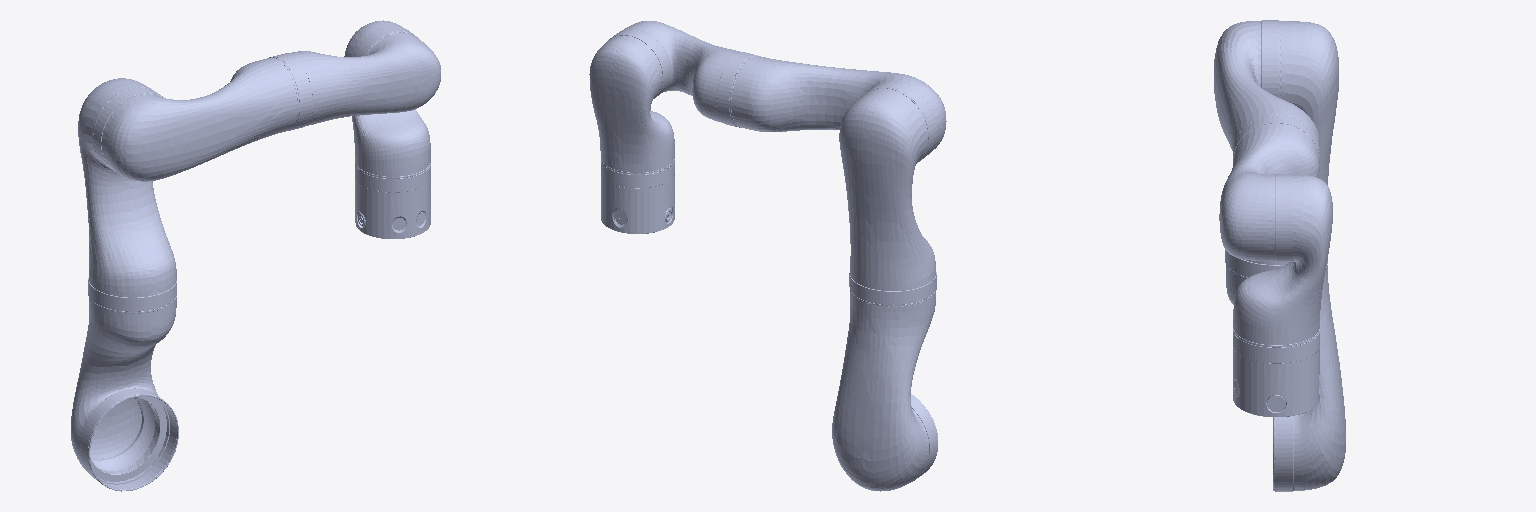
robot.urdf — tcb610:
<?xml version="1.0" encoding="utf-8"?>
<!-- This URDF was automatically created by SolidWorks to URDF Exporter! Originally created by Stephen Brawner (brawner@gmail.com) 
     Commit Version: 1.6.0-4-g7f85cfe  Build Version: 1.6.7995.38578
     For more information, please see http://wiki.ros.org/sw_urdf_exporter -->
<robot
  name="tcb610">
  <mujoco>
    <compiler
      meshdir="../meshes/"
      discardvisual="false"
    />
  </mujoco>
  <link
    name="link0">
    <inertial>
      <origin
        xyz="-0.0020391678669849 0.000208461233542917 0.0437970464318419"
        rpy="0 0 0" />
      <mass
        value="0.230943297728628" />
      <inertia
        ixx="0.000578857931988572"
        ixy="2.49644295158403E-06"
        ixz="-3.62761994221813E-06"
        iyy="0.000597326060992728"
        iyz="8.87603974516211E-07"
        izz="0.000630268815467392" />
    </inertial>
    <visual>
      <origin
        xyz="0 0 0"
        rpy="0 0 0" />
      <geometry>
        <mesh
          filename="package://tl_description/meshes/tcb610/link0.STL" />
      </geometry>
      <material
        name="">
        <color
          rgba="0.792156862745098 0.819607843137255 0.933333333333333 1" />
      </material>
    </visual>
    <collision>
      <origin
        xyz="0 0 0"
        rpy="0 0 0" />
      <geometry>
        <mesh
          filename="package://tl_description/meshes/tcb610/link0.STL" />
      </geometry>
    </collision>
  </link>
  <link
    name="link1">
    <inertial>
      <origin
        xyz="-2.82592835967698E-06 -0.0149440554612562 0.0760738628611229"
        rpy="0 0 0" />
      <mass
        value="0.188795049535535" />
      <inertia
        ixx="0.000644330974536614"
        ixy="5.5580416846704E-08"
        ixz="-5.40921744937685E-08"
        iyy="0.000669839544820847"
        iyz="0.000101917330586459"
        izz="0.000292784373513458" />
    </inertial>
    <visual>
      <origin
        xyz="0 0 0"
        rpy="0 0 0" />
      <geometry>
        <mesh
          filename="package://tl_description/meshes/tcb610/link1.STL" />
      </geometry>
      <material
        name="">
        <color
          rgba="0.792156862745098 0.819607843137255 0.933333333333333 1" />
      </material>
    </visual>
    <collision>
      <origin
        xyz="0 0 0"
        rpy="0 0 0" />
      <geometry>
        <mesh
          filename="package://tl_description/meshes/tcb610/link1.STL" />
      </geometry>
    </collision>
  </link>
  <joint
    name="joint1"
    type="revolute">
    <origin
      xyz="0 0 0.12215"
      rpy="0 0 0" />
    <parent
      link="link0" />
    <child
      link="link1" />
    <axis
      xyz="0 0 1" />
    <limit
      lower="-3.1226"
      upper="3.1226"
      effort="0"
      velocity="0" />
  </joint>
  <link
    name="link2">
    <inertial>
      <origin
        xyz="-3.41499887095105E-06 0.154403018882071 -0.0117350233716899"
        rpy="0 0 0" />
      <mass
        value="0.336430028750154" />
      <inertia
        ixx="0.00409550955481811"
        ixy="-2.27323080313501E-07"
        ixz="4.07590009581096E-08"
        iyy="0.000379304145451206"
        iyz="-6.46124398304674E-05"
        izz="0.00414165278260098" />
    </inertial>
    <visual>
      <origin
        xyz="0 0 0"
        rpy="0 0 0" />
      <geometry>
        <mesh
          filename="package://tl_description/meshes/tcb610/link2.STL" />
      </geometry>
      <material
        name="">
        <color
          rgba="0.792156862745098 0.819607843137255 0.933333333333333 1" />
      </material>
    </visual>
    <collision>
      <origin
        xyz="0 0 0"
        rpy="0 0 0" />
      <geometry>
        <mesh
          filename="package://tl_description/meshes/tcb610/link2.STL" />
      </geometry>
    </collision>
  </link>
  <joint
    name="joint2"
    type="revolute">
    <origin
      xyz="0 0.00665 0.14085"
      rpy="1.5708 0 0" />
    <parent
      link="link1" />
    <child
      link="link2" />
    <axis
      xyz="0 0 1" />
    <limit
      lower="-2.3562"
      upper="2.3562"
      effort="0"
      velocity="0" />
  </joint>
  <link
    name="link3">
    <inertial>
      <origin
        xyz="-2.75097287749659E-06 -0.0654996449646542 0.0144299061513071"
        rpy="0 0 0" />
      <mass
        value="0.145368275010407" />
      <inertia
        ixx="0.000526467492614225"
        ixy="2.65630070533986E-08"
        ixz="-8.83393851017443E-09"
        iyy="0.000131598103743421"
        iyz="-7.17193011658269E-05"
        izz="0.000544513509321361" />
    </inertial>
    <visual>
      <origin
        xyz="0 0 0"
        rpy="0 0 0" />
      <geometry>
        <mesh
          filename="package://tl_description/meshes/tcb610/link3.STL" />
      </geometry>
      <material
        name="">
        <color
          rgba="0.792156862745098 0.819607843137255 0.933333333333333 1" />
      </material>
    </visual>
    <collision>
      <origin
        xyz="0 0 0"
        rpy="0 0 0" />
      <geometry>
        <mesh
          filename="package://tl_description/meshes/tcb610/link3.STL" />
      </geometry>
    </collision>
  </link>
  <joint
    name="joint3"
    type="revolute">
    <origin
      xyz="0 0.3205 0.0118"
      rpy="0 0 1.5708" />
    <parent
      link="link2" />
    <child
      link="link3" />
    <axis
      xyz="0 0 1" />
    <limit
      lower="-0.9948"
      upper="4.1364"
      effort="0"
      velocity="0" />
  </joint>
  <link
    name="link4">
    <inertial>
      <origin
        xyz="-5.11720254758874E-06 0.0131445629598491 0.0626746095636407"
        rpy="0 0 0" />
      <mass
        value="0.0899818114825246" />
      <inertia
        ixx="0.000204808501954044"
        ixy="1.16327137559445E-08"
        ixz="4.07773249225712E-08"
        iyy="0.000207969757871977"
        iyz="-3.60478177498198E-05"
        izz="7.7518994163839E-05" />
    </inertial>
    <visual>
      <origin
        xyz="0 0 0"
        rpy="0 0 0" />
      <geometry>
        <mesh
          filename="package://tl_description/meshes/tcb610/link4.STL" />
      </geometry>
      <material
        name="">
        <color
          rgba="0.792156862745098 0.819607843137255 0.933333333333333 1" />
      </material>
    </visual>
    <collision>
      <origin
        xyz="0 0 0"
        rpy="0 0 0" />
      <geometry>
        <mesh
          filename="package://tl_description/meshes/tcb610/link4.STL" />
      </geometry>
    </collision>
  </link>
  <joint
    name="joint4"
    type="revolute">
    <origin
      xyz="0 -0.16615 -0.00515"
      rpy="1.5708 0 0" />
    <parent
      link="link3" />
    <child
      link="link4" />
    <axis
      xyz="0 0 1" />
    <limit
      lower="-3.1226"
      upper="3.1226"
      effort="0"
      velocity="0" />
  </joint>
  <link
    name="link5">
    <inertial>
      <origin
        xyz="-0.0398707312600496 1.29749997275774E-05 0.00873816110129229"
        rpy="0 0 0" />
      <mass
        value="0.0915266768417224" />
      <inertia
        ixx="8.07130413911804E-05"
        ixy="-3.62631341389975E-08"
        ixz="-3.15887030570593E-05"
        iyy="0.000167005961446355"
        iyz="-1.27355290249106E-08"
        izz="0.000170834721676796" />
    </inertial>
    <visual>
      <origin
        xyz="0 0 0"
        rpy="0 0 0" />
      <geometry>
        <mesh
          filename="package://tl_description/meshes/tcb610/link5.STL" />
      </geometry>
      <material
        name="">
        <color
          rgba="0.792156862745098 0.819607843137255 0.933333333333333 1" />
      </material>
    </visual>
    <collision>
      <origin
        xyz="0 0 0"
        rpy="0 0 0" />
      <geometry>
        <mesh
          filename="package://tl_description/meshes/tcb610/link5.STL" />
      </geometry>
    </collision>
  </link>
  <joint
    name="joint5"
    type="revolute">
    <origin
      xyz="0 -0.00615 0.11335"
      rpy="1.5708 0 0" />
    <parent
      link="link4" />
    <child
      link="link5" />
    <axis
      xyz="0 0 1" />
    <limit
      lower="-3.8397"
      upper="0.6981"
      effort="0"
      velocity="0" />
  </joint>
  <link
    name="link6">
    <inertial>
      <origin
        xyz="-0.000399705602869616 9.94872866117398E-05 -0.0228874675567848"
        rpy="0 0 0" />
      <mass
        value="0.0756542825219787" />
      <inertia
        ixx="5.73054421173184E-05"
        ixy="-1.04282535694342E-08"
        ixz="3.32573952167358E-07"
        iyy="5.75712974133905E-05"
        iyz="-2.01879254767613E-08"
        izz="7.08609629016023E-05" />
    </inertial>
    <visual>
      <origin
        xyz="0 0 0"
        rpy="0 0 0" />
      <geometry>
        <mesh
          filename="package://tl_description/meshes/tcb610/link6.STL" />
      </geometry>
      <material
        name="">
        <color
          rgba="0.792156862745098 0.819607843137255 0.933333333333333 1" />
      </material>
    </visual>
    <collision>
      <origin
        xyz="0 0 0"
        rpy="0 0 0" />
      <geometry>
        <mesh
          filename="package://tl_description/meshes/tcb610/link6.STL" />
      </geometry>
    </collision>
  </link>
  <joint
    name="joint6"
    type="revolute">
    <origin
      xyz="-0.1615 0 -0.00615"
      rpy="-1.5708 0 1.5708" />
    <parent
      link="link5" />
    <child
      link="link6" />
    <axis
      xyz="0 0 1" />
    <limit
      lower="-3.1226"
      upper="3.1226"
      effort="0"
      velocity="0" />
  </joint>
</robot>

--- What the picture shows (computed from the rendered views, not written in the file) ---
The picture shows the robot from 3 angles, left to right: view 1: azimuth 30°, elevation 25°; view 2: azimuth 150°, elevation 25°; view 3: azimuth 270°, elevation 25°; orthographic projection.
Model tcb610 with 7 links and 6 joints (6 revolute), rooted at link0, posed all joints at 0.
Visible links, largest first — view 1: link2, link3, link4, link5, link6; view 2: link2, link3, link5, link4, link6; view 3: link2, link5, link4, link3, link6.
Link boxes in pixels (<box>): link2: <box>71,78,178,491</box>; link3: <box>92,57,297,181</box>; link4: <box>269,32,440,130</box>; link5: <box>344,20,430,176</box>; link6: <box>355,162,430,238</box>; link2: <box>832,88,937,491</box>; link3: <box>731,56,946,163</box>; link5: <box>589,29,674,172</box>; link4: <box>622,21,757,127</box>; link6: <box>601,159,674,233</box>; link2: <box>1225,21,1345,491</box>; link5: <box>1233,174,1332,344</box>; link4: <box>1219,114,1319,260</box>; link3: <box>1214,20,1319,150</box>; link6: <box>1233,329,1319,416</box>.
Bounding box of the posed robot: 0.3633 × 0.1071 × 0.4103 m (x, y, z).
Meshes: 7 distinct files referenced, 5 mesh visuals loaded (5 binary STL); not drawn: 2 (reference not matched to a file when rendering).
